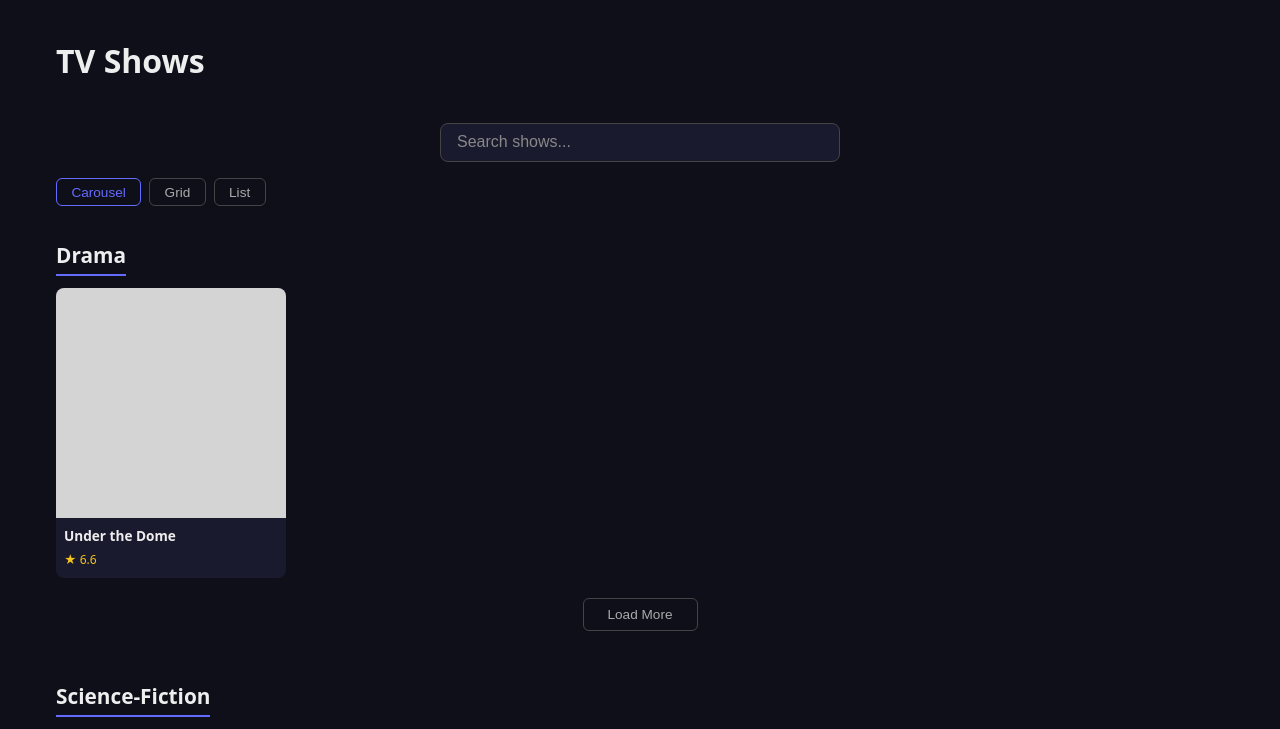
HomePage › switches to list view on List button click
Step 1. Click the button "List" → point(240, 192), box [214,178,266,206]
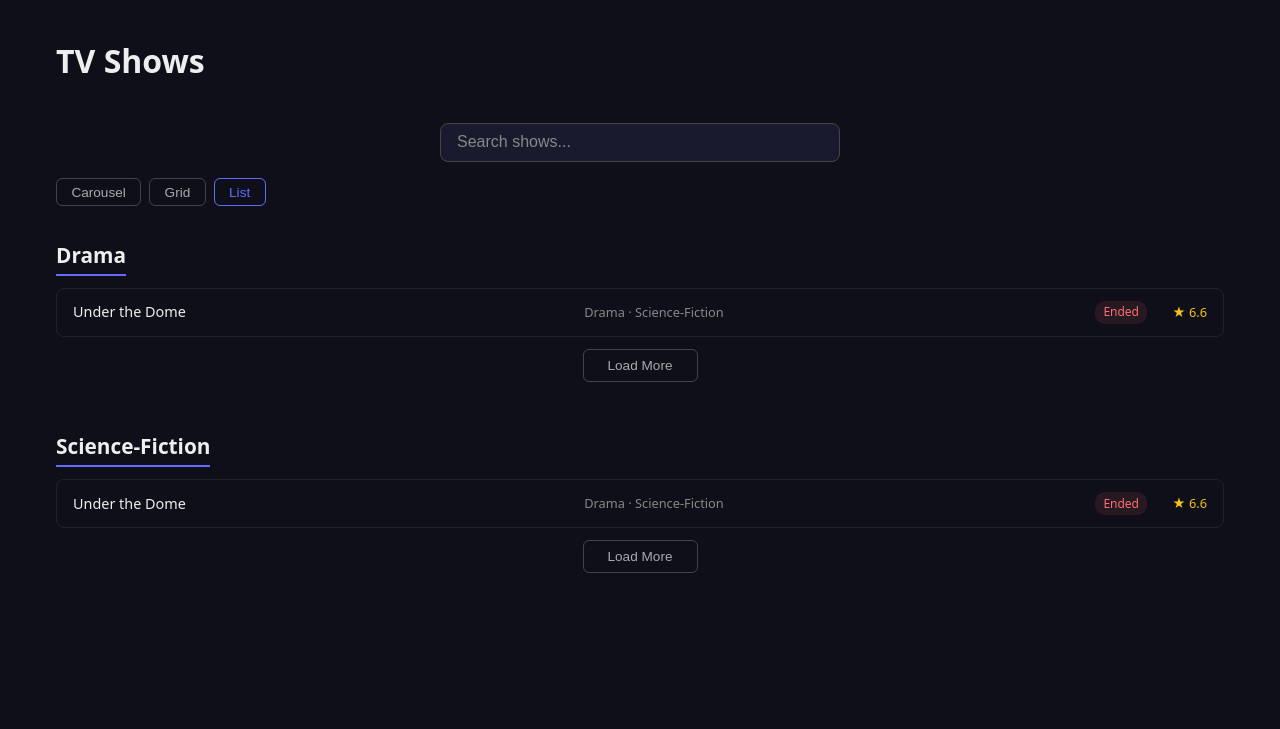
Expected: the 1st element with class "genre-section__list" is shown, [56,288,1224,337]
